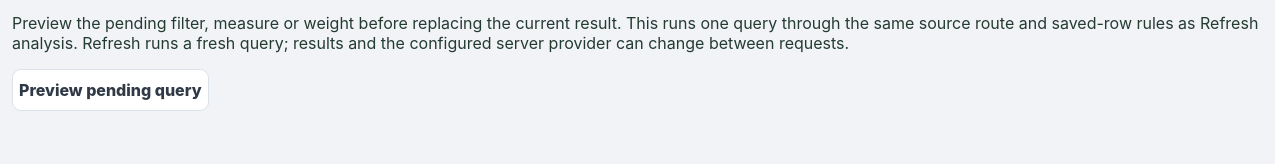
Scenario: withholds an invalid response and preserves the tile
Click the button "Preview pending query": (110,90) [12, 69, 209, 111]
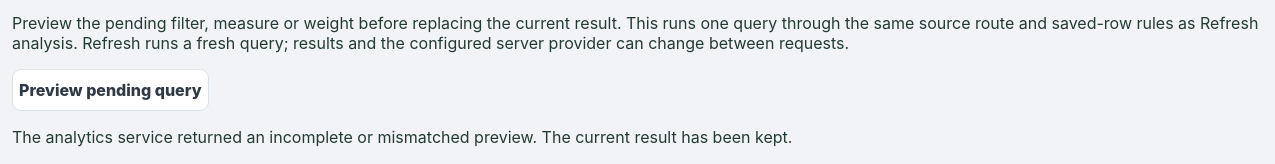
Expected: the message shows "incomplete or mismatched", [12, 127, 792, 147]
